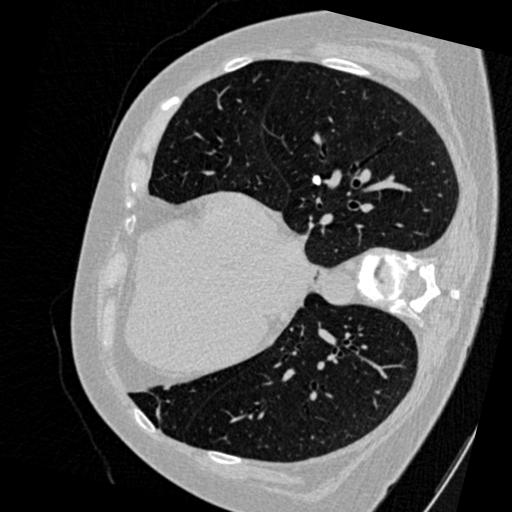nodule: (309, 171, 325, 187)
